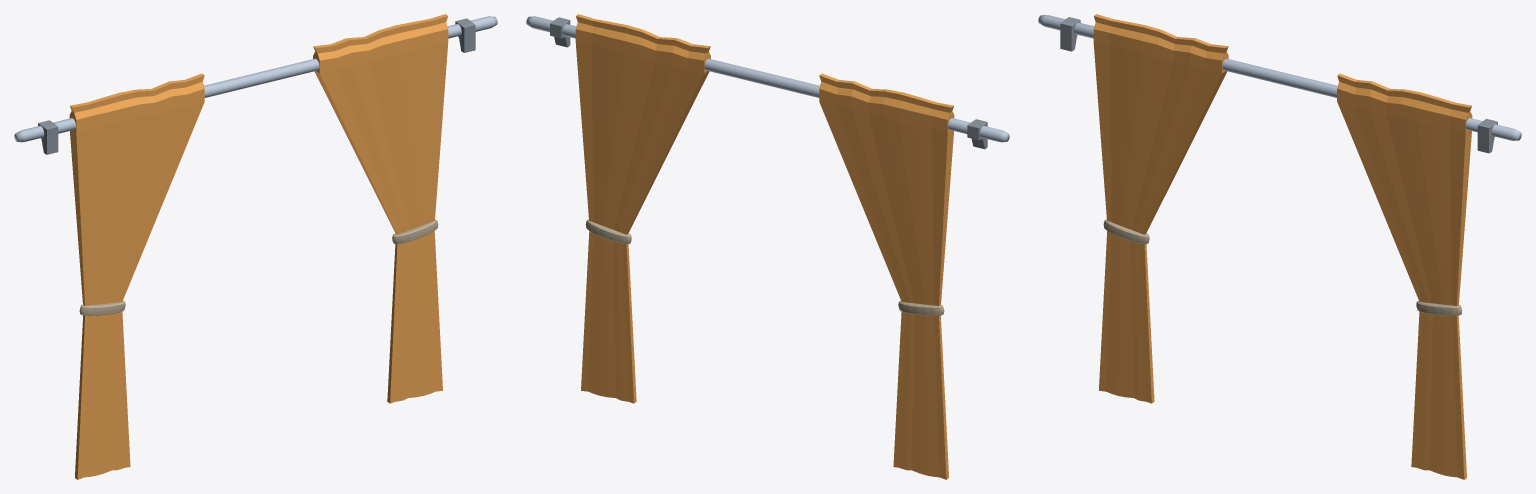
Rendered from Curtains1.fbx.
3 views of the same model, side by side, from view 1: azimuth 30°, elevation 25°; view 2: azimuth 150°, elevation 25°; view 3: azimuth 330°, elevation 25° (orthographic).
Parts seen in each view (by area): view 1: CURTAINs, Stick; view 2: CURTAINs, Stick; view 3: CURTAINs, Stick.
Part boxes in pixels (bbox=[...]): CURTAINs: bbox=[69, 14, 448, 479]; Stick: bbox=[14, 16, 497, 154]; CURTAINs: bbox=[575, 14, 954, 479]; Stick: bbox=[526, 16, 1009, 149]; CURTAINs: bbox=[1093, 14, 1472, 479]; Stick: bbox=[1038, 15, 1521, 153].
Bounding box in the file's own units: 2621 × 85.67 × 1958.
